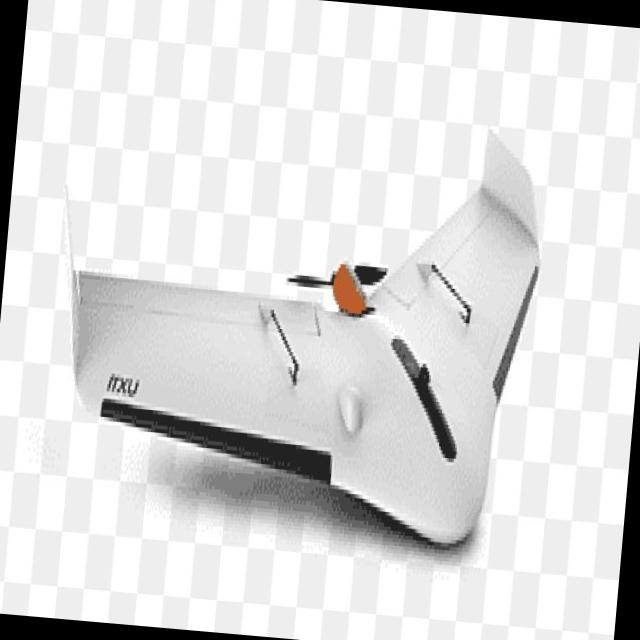UAV: (52, 91, 556, 556)
